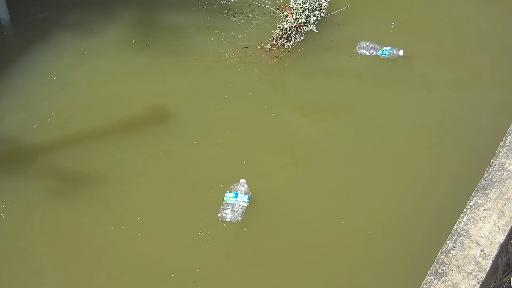plastic: (215, 175, 260, 227), (352, 40, 413, 64)
twig: (224, 0, 340, 53)
